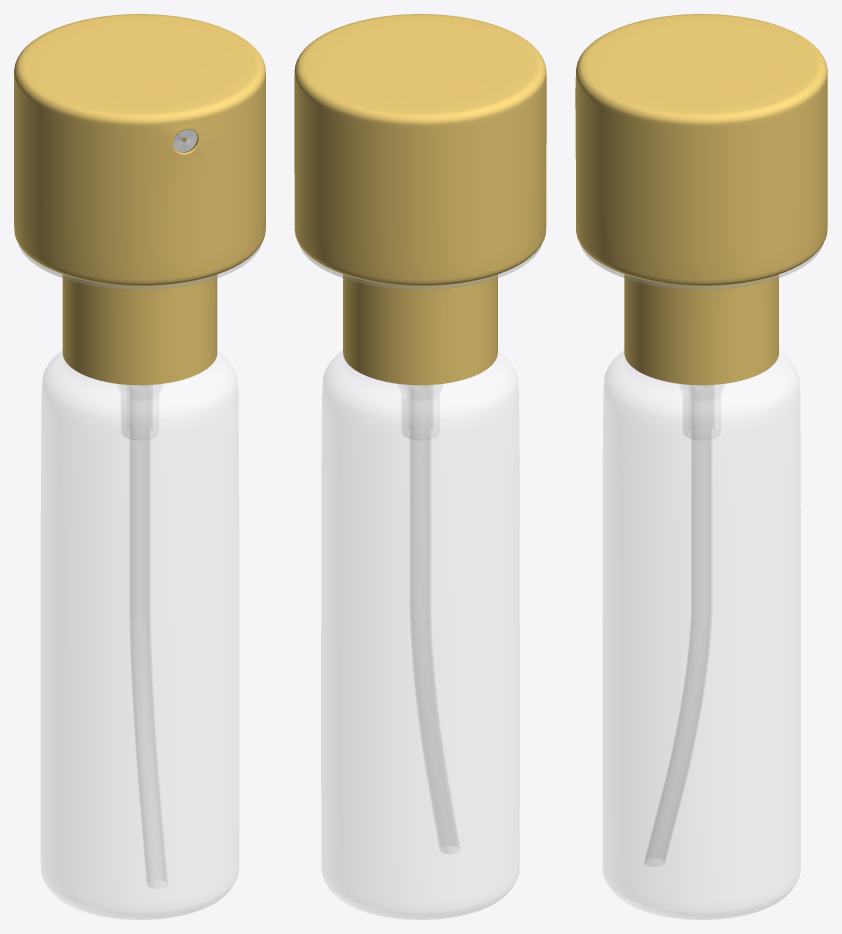
File: Spray-pink-refill.glb
3 views of the same model, side by side, from view 1: azimuth 30°, elevation 25°; view 2: azimuth 150°, elevation 25°; view 3: azimuth 270°, elevation 25° (orthographic).
Parts seen in each view (by area): view 1: BodyTop.024, BodyTop.023, BodyTop.030, BodyTop.028, BodyTop.027; view 2: BodyTop.024, BodyTop.023, BodyTop.030, BodyTop.028, BodyTop.027; view 3: BodyTop.024, BodyTop.023, BodyTop.030, BodyTop.028, BodyTop.027.
Part boxes in pixels (<box>): BodyTop.024: <box>41,351,238,919</box>; BodyTop.023: <box>14,14,265,385</box>; BodyTop.030: <box>130,386,167,887</box>; BodyTop.028: <box>117,384,162,439</box>; BodyTop.027: <box>19,245,260,289</box>; BodyTop.024: <box>321,351,519,919</box>; BodyTop.023: <box>294,14,546,385</box>; BodyTop.030: <box>410,385,459,853</box>; BodyTop.028: <box>398,384,442,439</box>; BodyTop.027: <box>299,245,541,289</box>; BodyTop.024: <box>602,350,800,919</box>; BodyTop.023: <box>575,14,827,385</box>; BodyTop.030: <box>644,385,711,866</box>; BodyTop.028: <box>679,384,724,439</box>; BodyTop.027: <box>580,245,822,289</box>.
Size of the model in its own units: 0.7572 by 2.72 by 0.7587.
